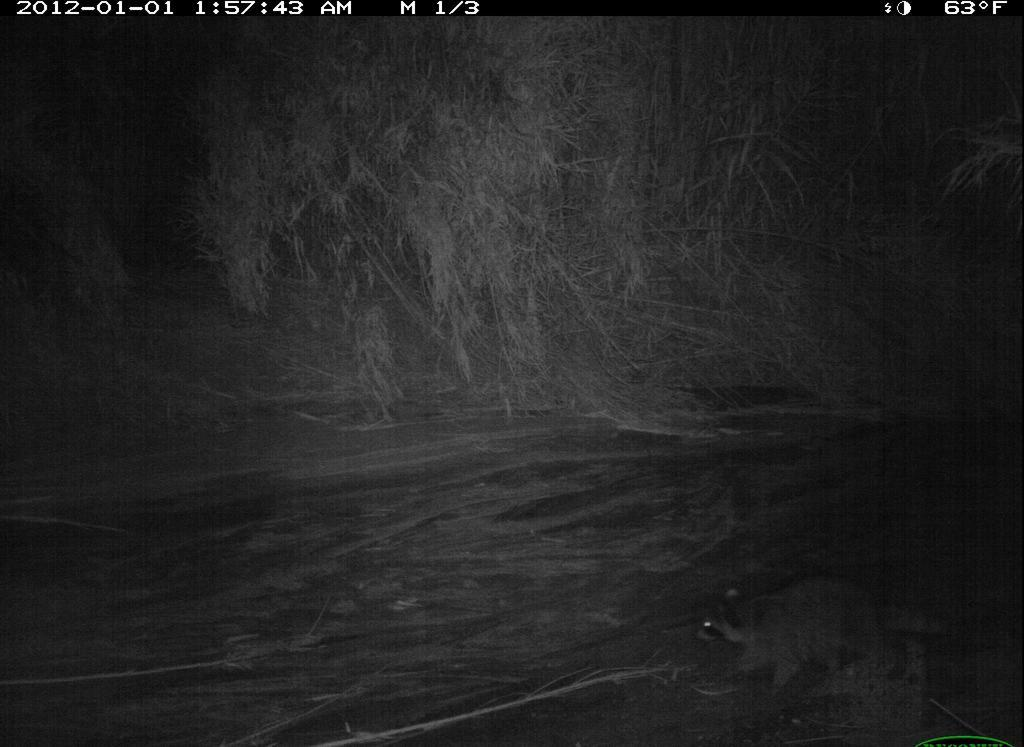raccoon: (687, 575, 963, 703)
